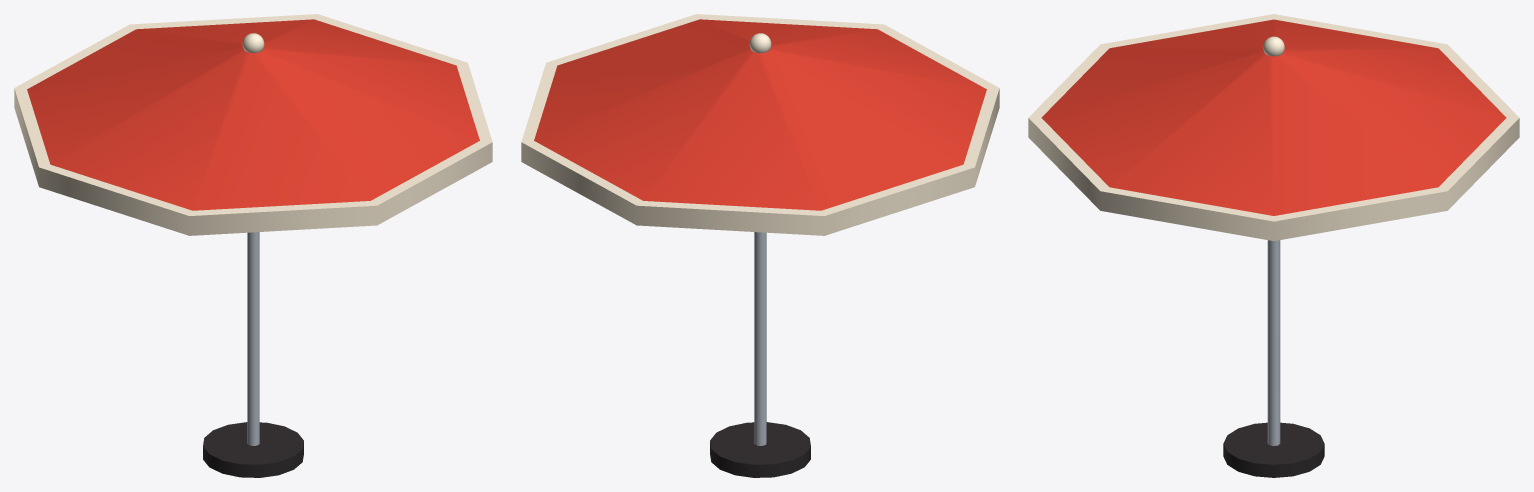
Rendered from patio_umbrella.glb.
3 renders of one model, left to right at view 1: azimuth 30°, elevation 25°; view 2: azimuth 150°, elevation 25°; view 3: azimuth 270°, elevation 25°, orthographic.
Visible parts, largest first — view 1: Canopy, Valance, Base, Pole; view 2: Canopy, Valance, Base, Pole; view 3: Canopy, Valance, Base, Pole.
Part boxes in pixels (left/top/right/bottom): Canopy: left=27, top=19, right=479, bottom=210; Valance: left=14, top=14, right=492, bottom=235; Base: left=203, top=422, right=303, bottom=477; Pole: left=247, top=232, right=259, bottom=445; Canopy: left=534, top=19, right=986, bottom=210; Valance: left=521, top=14, right=999, bottom=235; Base: left=710, top=422, right=810, bottom=477; Pole: left=754, top=232, right=766, bottom=445; Canopy: left=1041, top=19, right=1506, bottom=215; Valance: left=1028, top=14, right=1519, bottom=240; Base: left=1223, top=422, right=1324, bottom=477; Pole: left=1267, top=240, right=1280, bottom=445.
Size of the model in its own units: 2.72 by 2.56 by 2.72.
